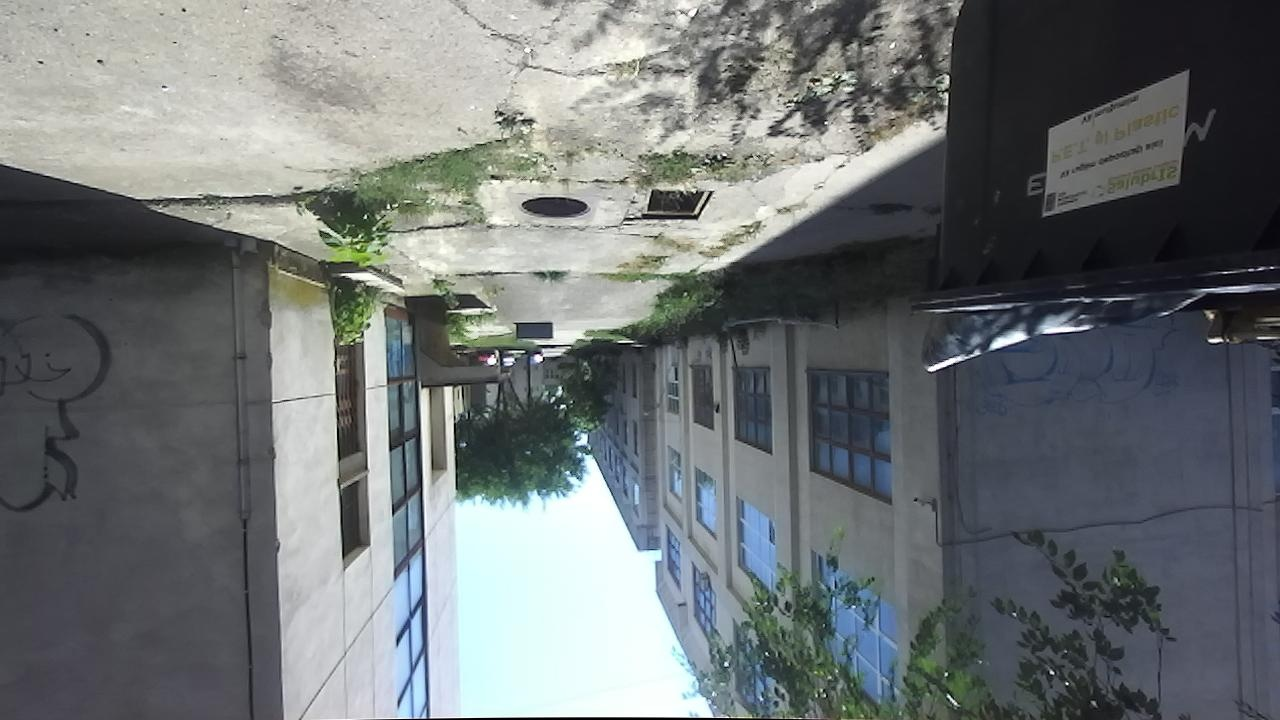drain: (636, 182, 720, 223), (515, 195, 595, 224)
